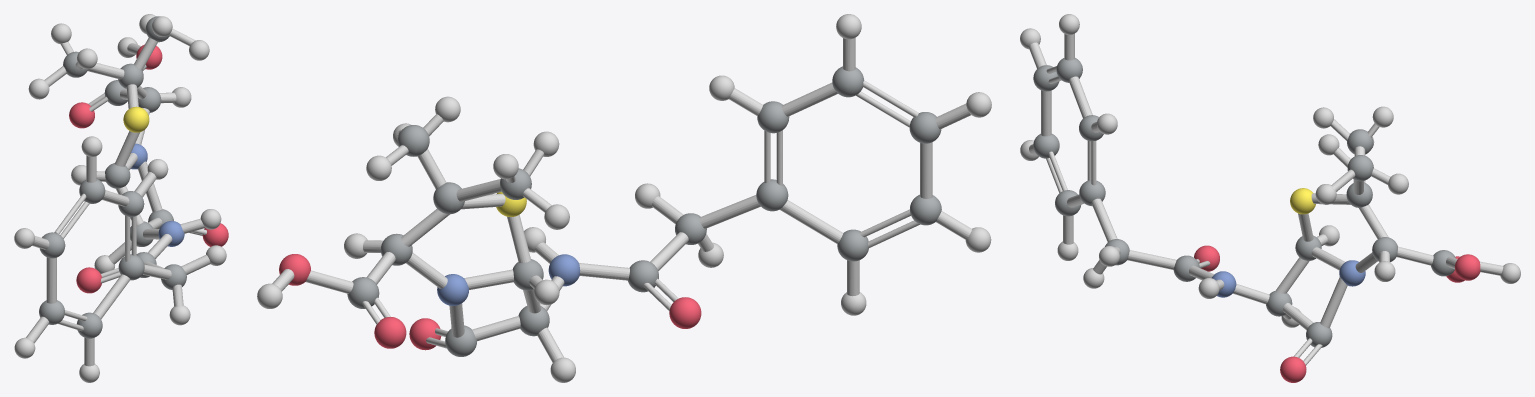
Rendered from moleculas.gltf.
3 views of the same model, side by side, from view 1: azimuth 30°, elevation 25°; view 2: azimuth 150°, elevation 25°; view 3: azimuth 270°, elevation 25° (orthographic). The views are drawn at different scales.
Parts seen in each view (by area): view 1: Mesh_1, Mesh_4, Mesh_0, Mesh_3, Mesh_2; view 2: Mesh_1, Mesh_4, Mesh_0, Mesh_3; view 3: Mesh_1, Mesh_4, Mesh_0, Mesh_3, Mesh_2.
Boxes of the visible parts, bbox=[...] form: Mesh_1: bbox=[14, 14, 226, 382]; Mesh_4: bbox=[39, 16, 186, 338]; Mesh_0: bbox=[69, 44, 228, 293]; Mesh_3: bbox=[131, 143, 184, 246]; Mesh_2: bbox=[123, 106, 149, 132]; Mesh_1: bbox=[257, 14, 991, 382]; Mesh_4: bbox=[347, 66, 941, 356]; Mesh_0: bbox=[279, 254, 701, 350]; Mesh_3: bbox=[437, 254, 580, 305]; Mesh_1: bbox=[1020, 14, 1520, 365]; Mesh_4: bbox=[1033, 58, 1455, 347]; Mesh_0: bbox=[1194, 245, 1480, 382]; Mesh_3: bbox=[1212, 260, 1365, 297]; Mesh_2: bbox=[1290, 188, 1315, 214].
Size of the model in its own units: 1.6 by 1.05 by 1.9.
